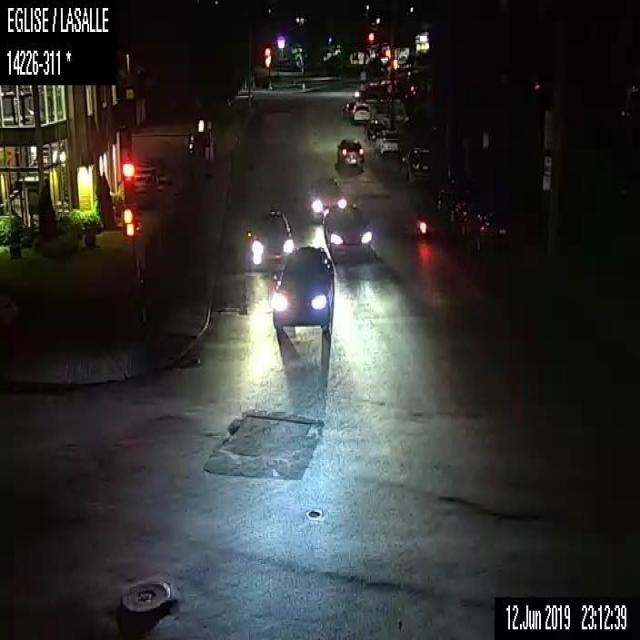vehicle: (271, 242, 334, 336), (246, 206, 294, 268), (324, 198, 373, 257), (303, 176, 344, 220), (400, 144, 435, 183), (446, 197, 476, 234), (336, 135, 364, 173), (473, 212, 503, 247), (373, 125, 402, 158), (364, 116, 387, 144), (352, 100, 372, 124), (416, 206, 428, 238), (342, 97, 353, 117)
